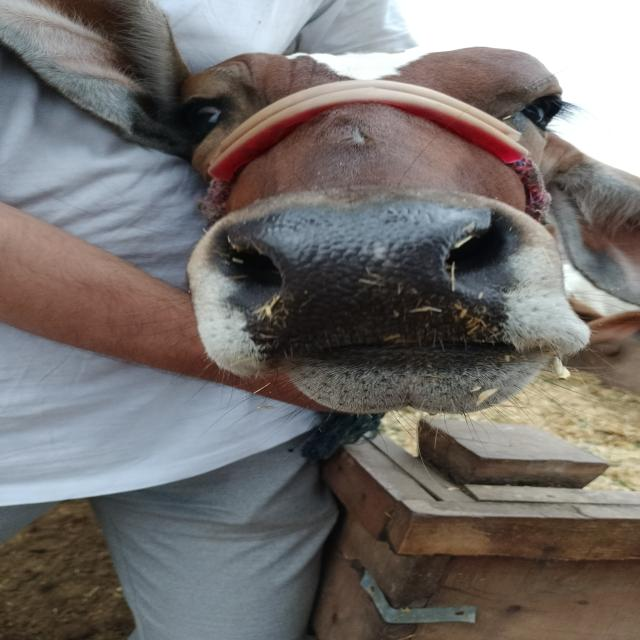muzzles: (190, 204, 581, 370)
